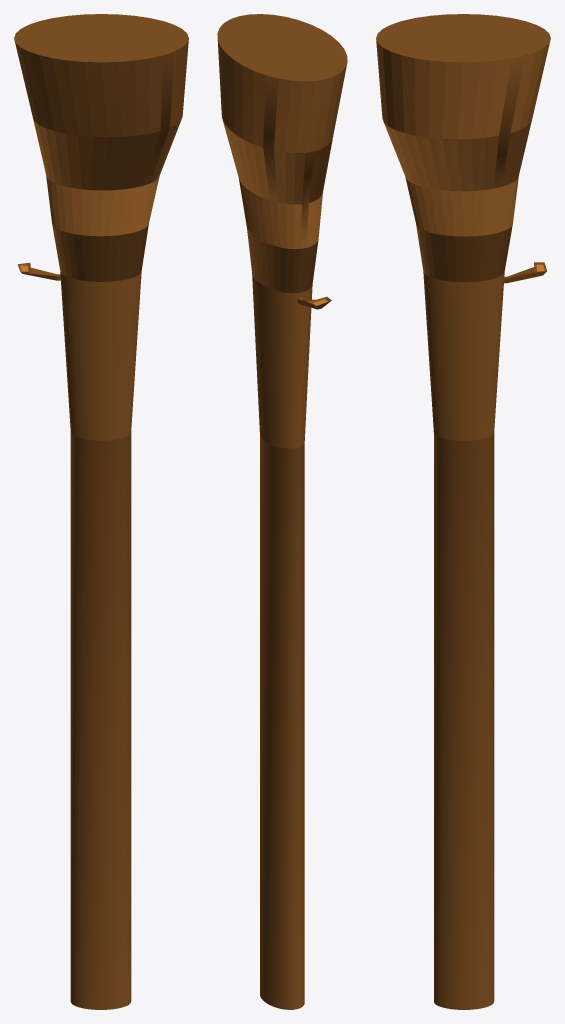
Rendered from central_tree.fbx.
3 renders of one model, left to right at view 1: azimuth 90°, elevation 25°; view 2: azimuth 210°, elevation 25°; view 3: azimuth 270°, elevation 25°, orthographic.
Parts seen in each view (by area): view 1: Cylinder; view 2: Cylinder; view 3: Cylinder.
Part boxes in pixels (box(x1,y1,x2,y2)): Cylinder: box(14, 14, 188, 1009); Cylinder: box(217, 14, 347, 1009); Cylinder: box(376, 14, 550, 1009).
Size of the model in its own units: 4644 by 43129 by 7096.
